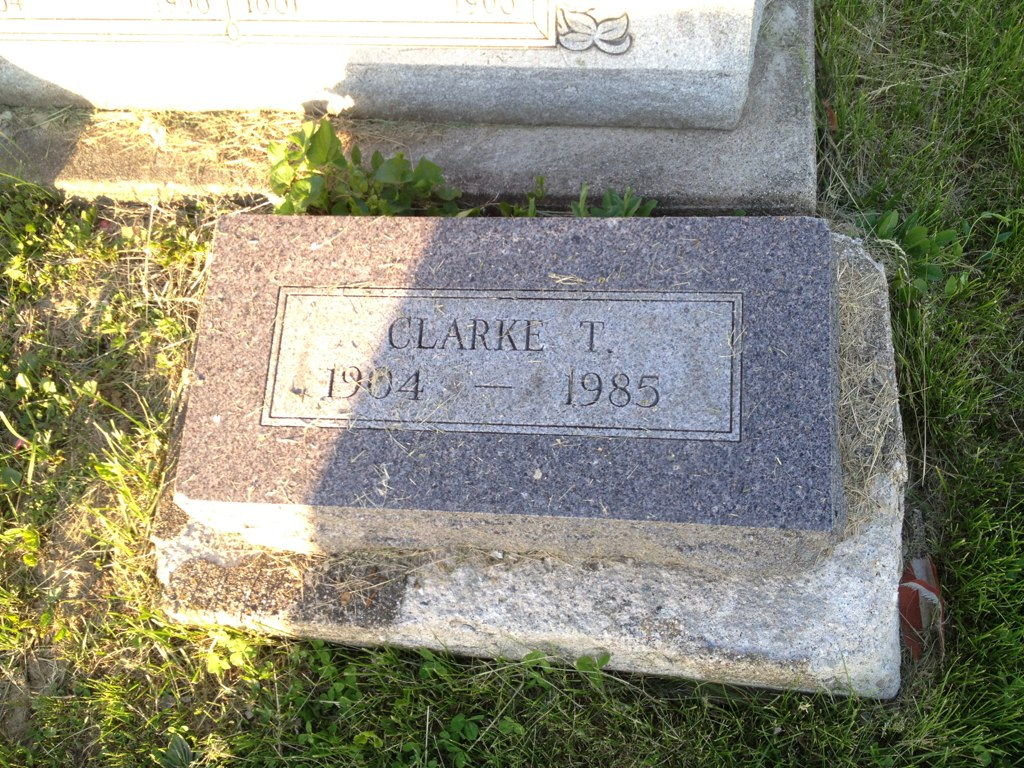flat: (119, 197, 911, 694)
